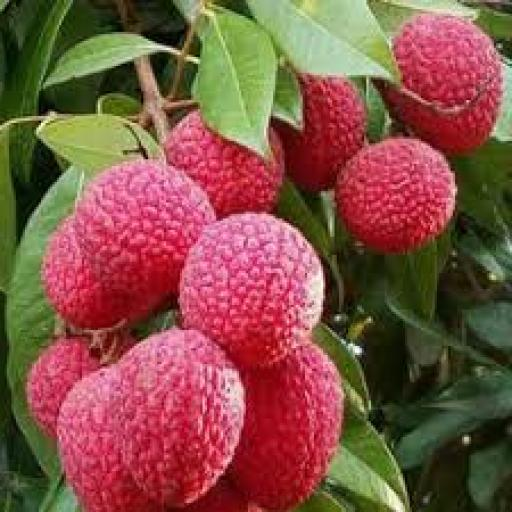lychee: (72, 160, 212, 320), (118, 330, 242, 507), (179, 214, 322, 366), (229, 342, 342, 509), (380, 14, 501, 154), (56, 367, 160, 511), (334, 139, 456, 252), (163, 112, 283, 216), (277, 76, 365, 191), (40, 219, 128, 329), (25, 337, 99, 436), (175, 478, 260, 511)
